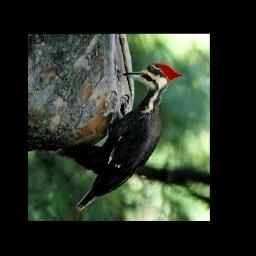Woodpecker: (75, 64, 183, 209)
